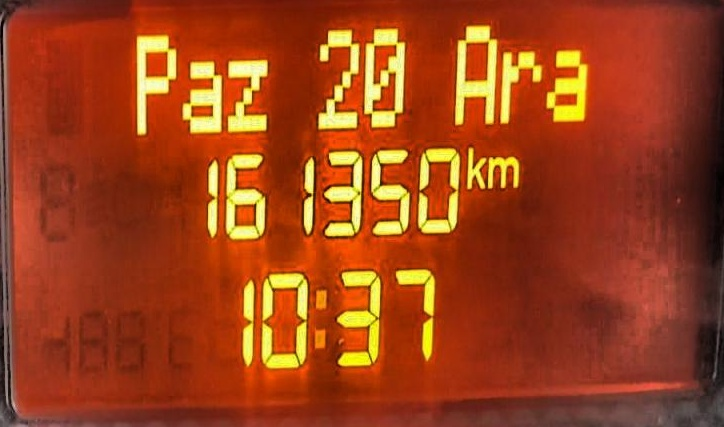1: (293, 148, 320, 242), (237, 266, 256, 370), (203, 151, 218, 243)
2: (313, 23, 361, 135)
3: (332, 257, 379, 371), (324, 144, 361, 240)
5: (367, 144, 412, 239)
6: (223, 145, 268, 246)
7: (361, 18, 408, 131), (391, 258, 439, 366), (259, 266, 307, 371), (415, 144, 458, 234)
X: (131, 29, 175, 140), (453, 18, 498, 126), (180, 52, 225, 142), (497, 40, 539, 126), (225, 52, 269, 134), (548, 42, 587, 125), (485, 149, 520, 196), (462, 137, 484, 196), (313, 280, 328, 361)
